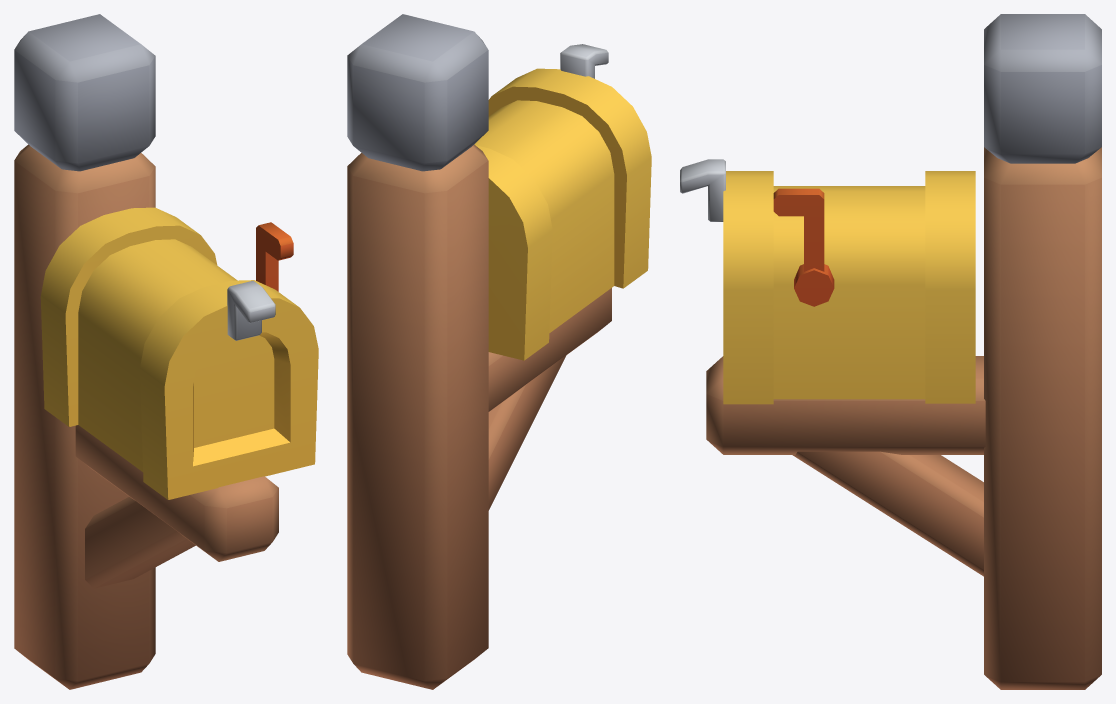
The model's file is mailbox.fbx.
3 views of the same model, side by side, from view 1: azimuth 30°, elevation 25°; view 2: azimuth 150°, elevation 25°; view 3: azimuth 270°, elevation 25° (orthographic).
Visible parts, largest first — view 1: mailbox, mailbox_door, mailbox_flag; view 2: mailbox, mailbox_door; view 3: mailbox, mailbox_door, mailbox_flag.
Boxes of the visible parts, <box> form: mailbox: <box>14,14,278,689</box>; mailbox_door: <box>139,280,318,499</box>; mailbox_flag: <box>256,222,293,291</box>; mailbox: <box>347,14,614,689</box>; mailbox_door: <box>488,44,651,288</box>; mailbox: <box>706,14,1101,689</box>; mailbox_door: <box>680,159,773,404</box>; mailbox_flag: <box>773,188,834,306</box>.
Size of the model in its own units: 55.27 by 210 by 125.
